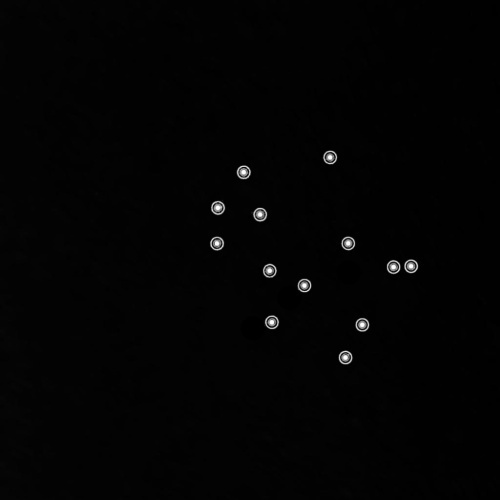gemini: (202, 137, 424, 375)
